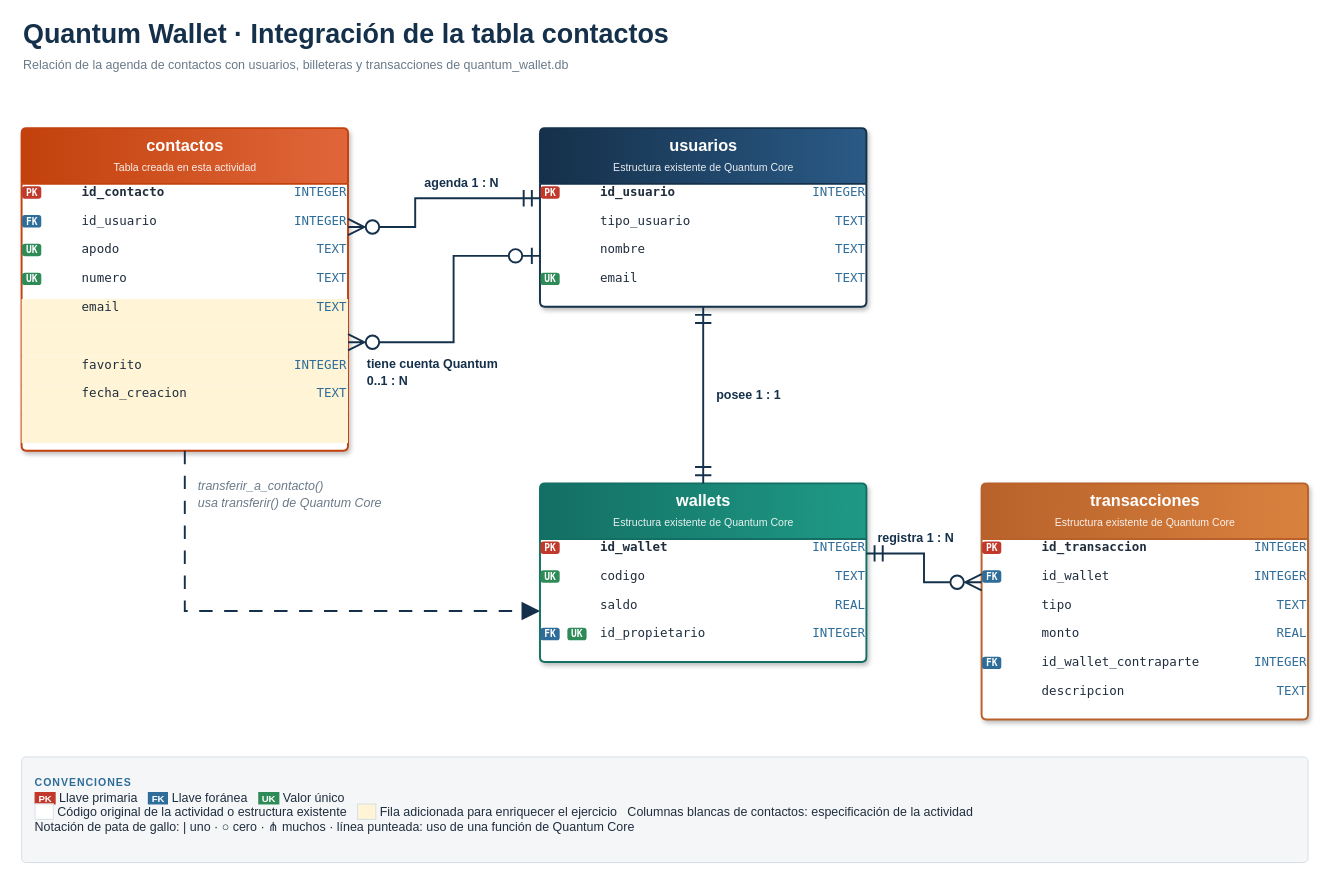
This 1331x879 diagram has some shape labels left out. Each missing label, with the centre of its shape:
fecha_actualizacion TEXT: the point at 184,428
FK id_usuario_contacto INTEGER: the point at 184,341
